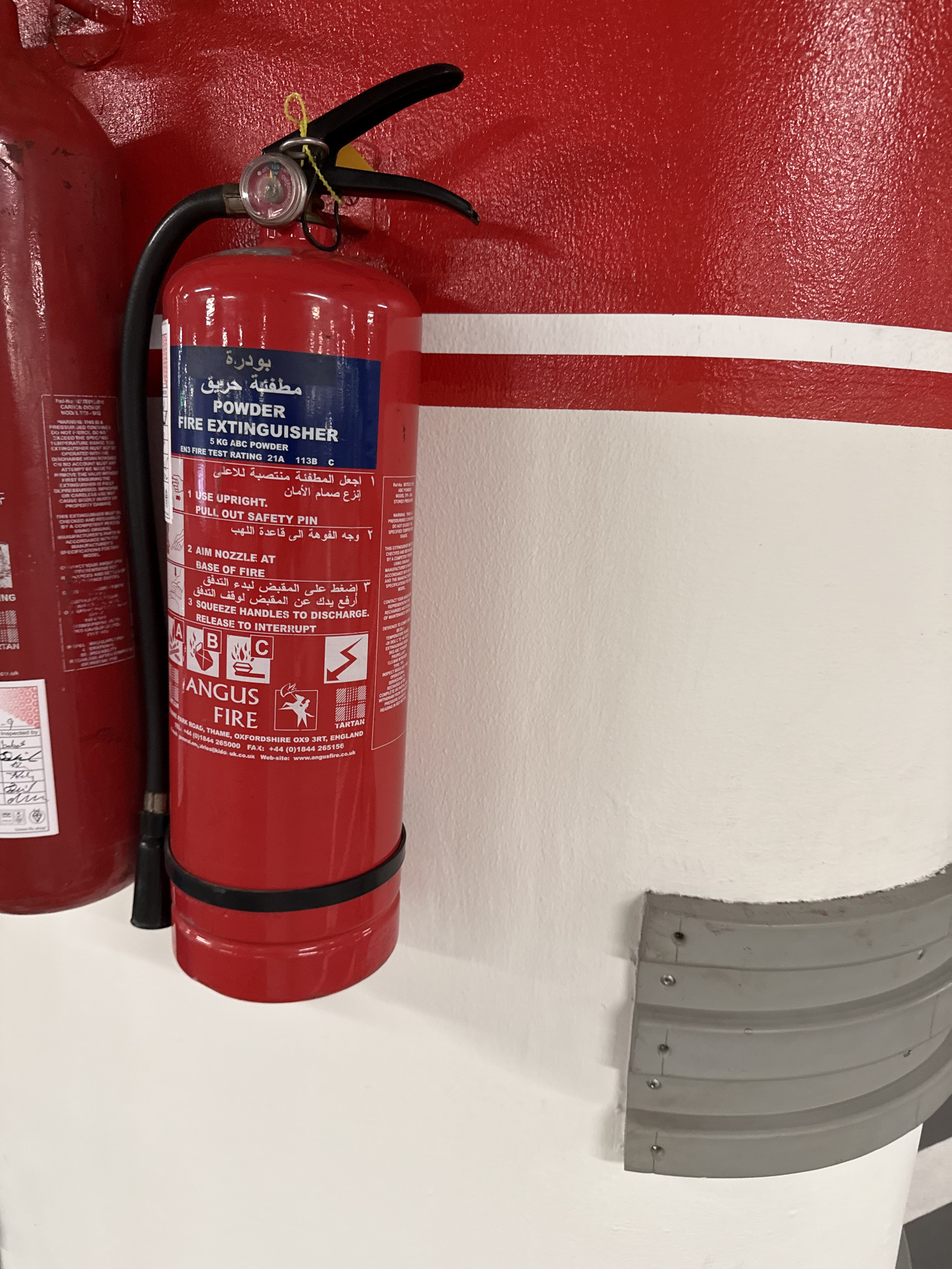fire_extinguisher: (120, 61, 481, 1004), (0, 1, 145, 916)
